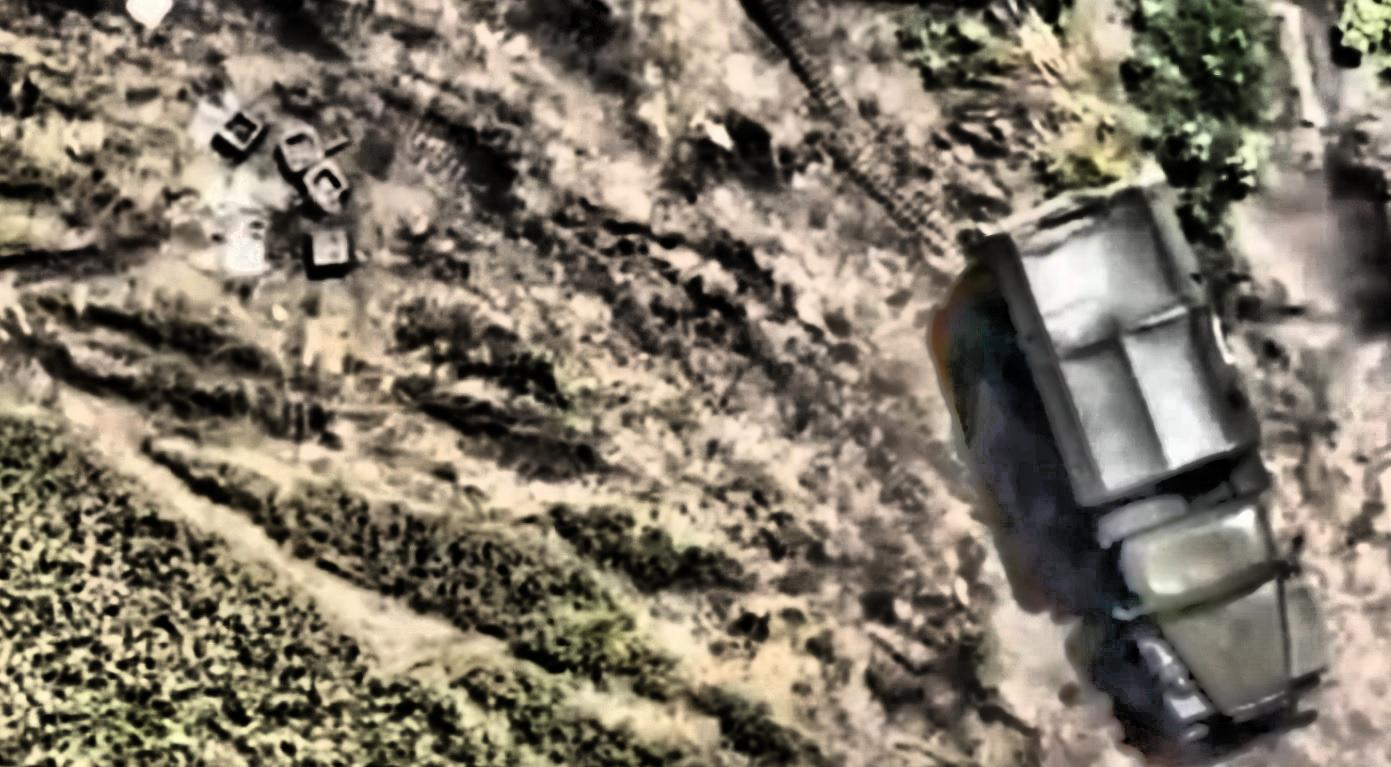military-vehicle: (973, 171, 1331, 749)
